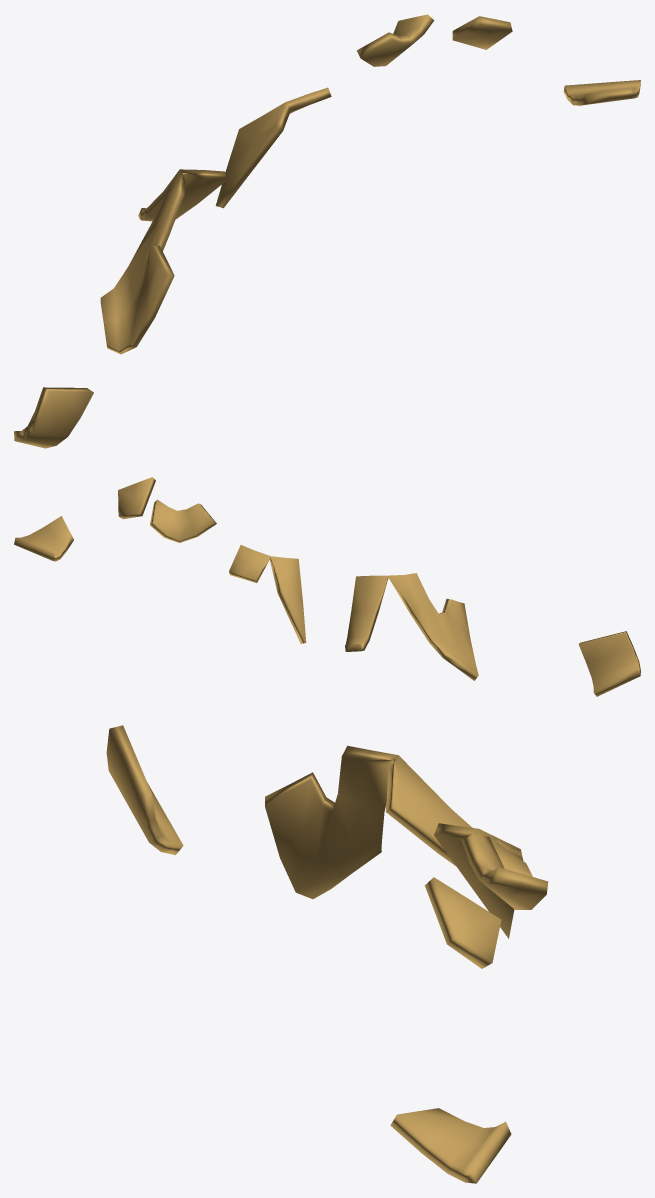
3 views of the same model, one above another, from view 1: azimuth 30°, elevation 25°; view 2: azimuth 150°, elevation 25°; view 3: azimuth 270°, elevation 25° (orthographic). The views are drawn at different scales.
Visible parts, largest first — view 1: 右侧腕掌掌侧韧带; view 2: 右侧腕掌掌侧韧带; view 3: 右侧腕掌掌侧韧带.
Part boxes in pixels (bbox=[...]): 右侧腕掌掌侧韧带: bbox=[14, 14, 640, 448]; 右侧腕掌掌侧韧带: bbox=[14, 477, 640, 696]; 右侧腕掌掌侧韧带: bbox=[106, 725, 548, 1183].
Bounding box in the file's own units: 0.0632 × 0.0195 × 0.0224.
